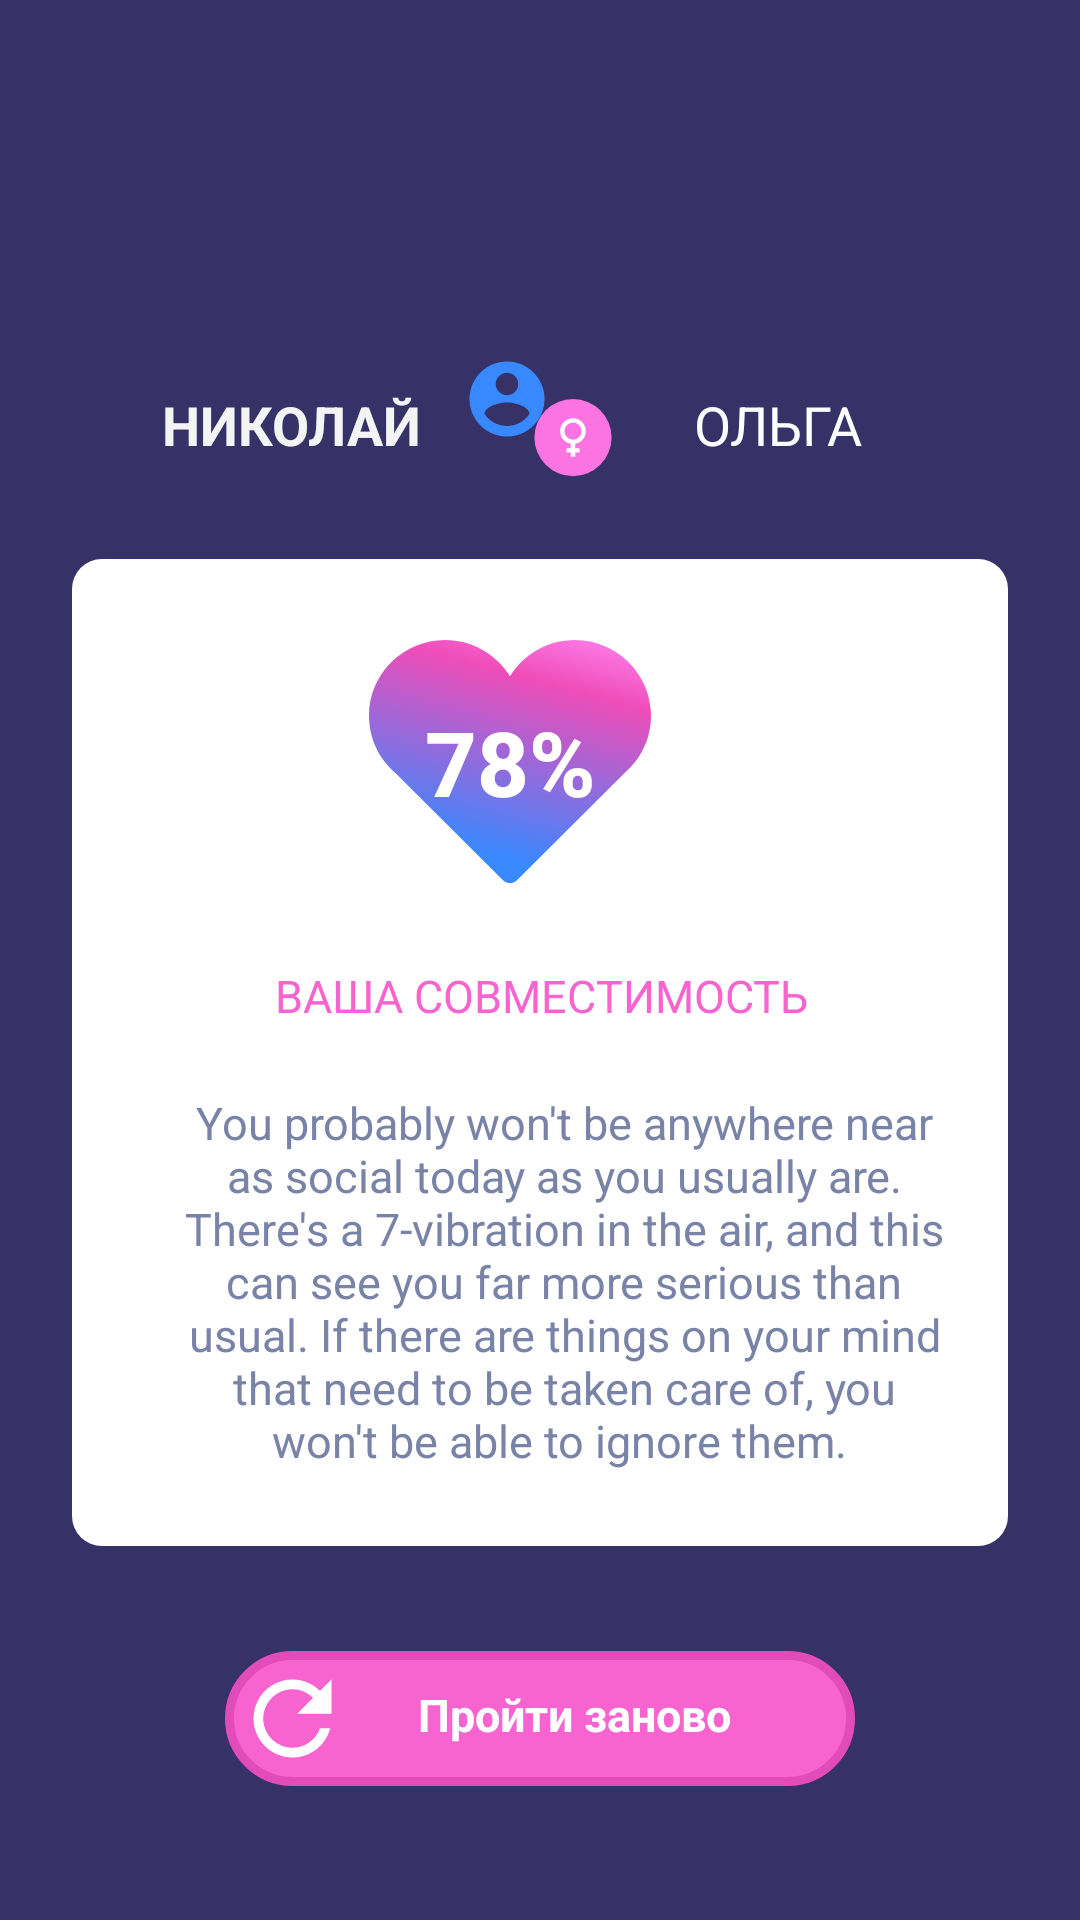

Icon click points for this 1080×1920 phone screenshot, format [x,y]:
female: [570,438]
man act: [510,402]
refresh: [292,1718]
